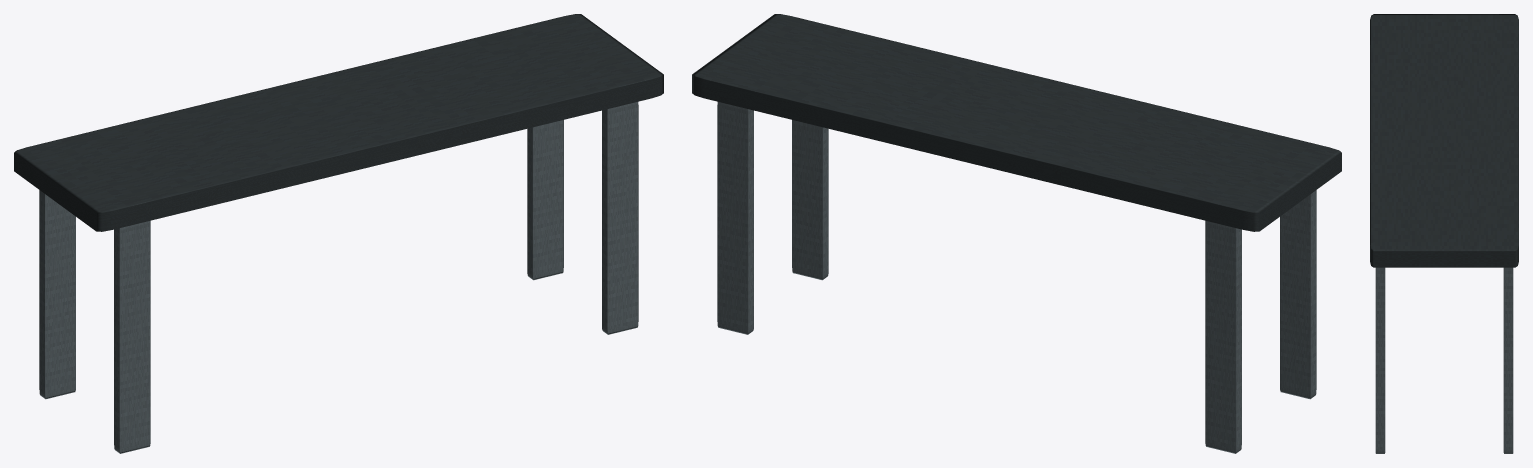
File: gym-bench.glb
3 renders of one model, left to right at view 1: azimuth 30°, elevation 25°; view 2: azimuth 150°, elevation 25°; view 3: azimuth 270°, elevation 25°, orthographic. The views are drawn at different scales.
Visible parts, largest first — view 1: top, leg (×4); view 2: top, leg (×4); view 3: top, leg (×2).
Boxes of the visible parts, <box> form: top: <box>14,14,663,231</box>; leg (×4): <box>39,102,638,453</box>; top: <box>692,14,1341,231</box>; leg (×4): <box>717,102,1316,453</box>; top: <box>1370,14,1518,267</box>; leg (×2): <box>1375,267,1513,453</box>.
Bounding box in the file's own units: 1.17 × 0.49 × 0.31.
Materials: 2 (2 with a texture image).
